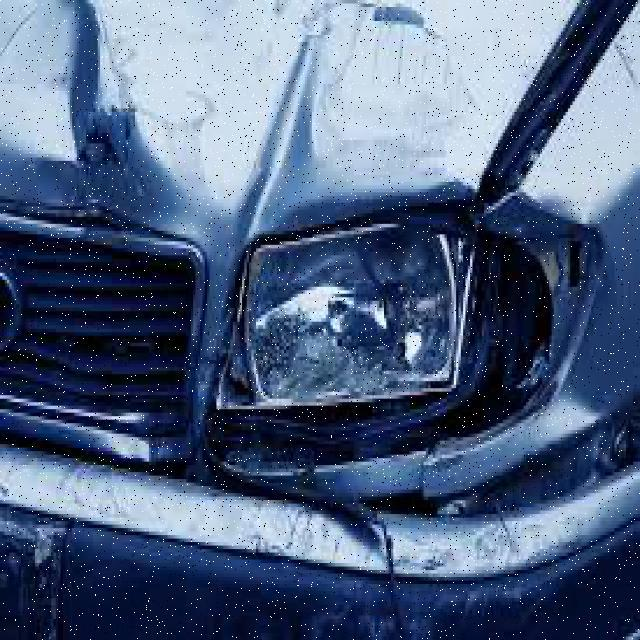Headlight-Damage: (210, 220, 573, 440)
bonnet-dent: (0, 0, 477, 210)
front-bumper-dent: (0, 433, 629, 637)
